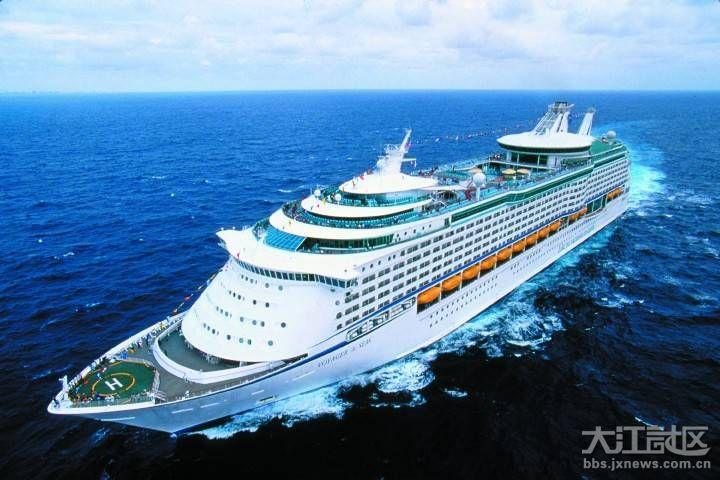youlun: (44, 98, 631, 433)
